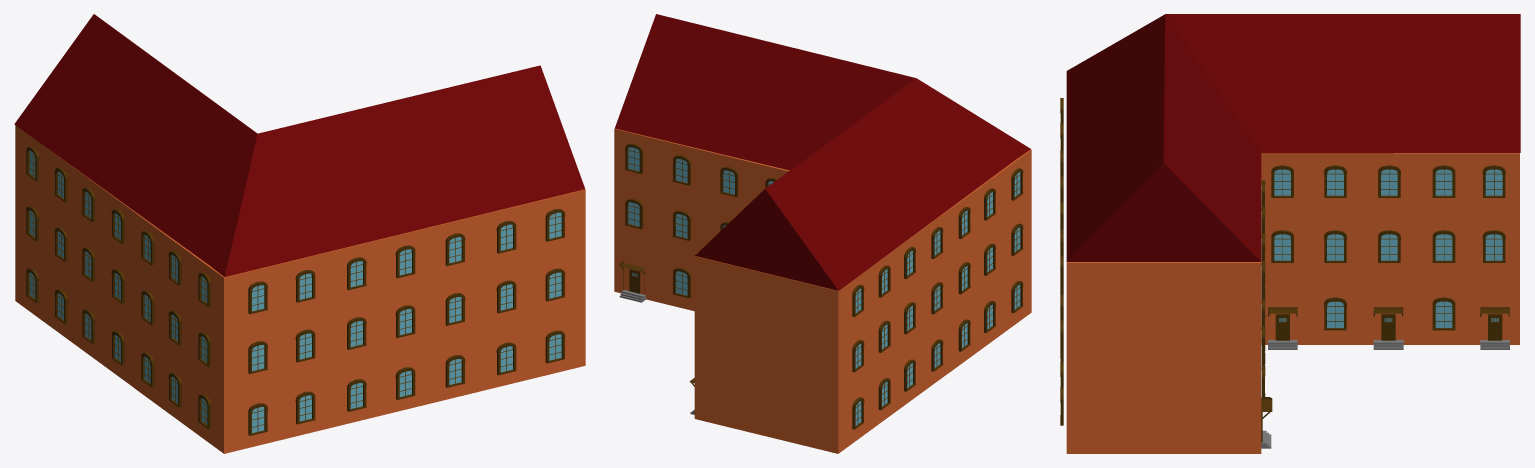
File: naroznik3.fbx
The picture shows the model from 3 angles, left to right: view 1: azimuth 30°, elevation 25°; view 2: azimuth 150°, elevation 25°; view 3: azimuth 270°, elevation 25°; orthographic projection. The views are drawn at different scales.
Visible parts, largest first — view 1: Cube, Cube.001, Cube.091, Cube.105, Cube.090, Cube.098, Cube.088, Cube.089, Cube.093, Cube.094, Cube.087, Cube.095 (+11 smaller); view 2: Cube, Cube.001, Cube.068, Cube.166, Cube.075, Cube.167, Cube.074, Cube.073, Cube.004; view 3: Cube.001, Cube, Cube.146, Cube.145, Cube.147, Cube.152, Cube.153, Cube.154, Cube.151, Cube.164, Cube.150, Cube.158 (+5 smaller).
Part boxes in pixels (x1,y1,x2,y2): Cube: (15,125,585,453); Cube.001: (14,14,584,276); Cube.091: (545,330,565,363); Cube.105: (395,245,415,278); Cube.090: (545,268,565,301); Cube.098: (395,305,415,337); Cube.088: (445,293,465,325); Cube.089: (496,280,516,313); Cube.093: (496,342,516,375); Cube.094: (445,355,465,387); Cube.087: (445,233,465,266); Cube.095: (295,391,315,424); Cube: (614,128,1031,453); Cube.001: (615,14,1030,290); Cube.068: (619,261,645,302); Cube.166: (625,143,643,173); Cube.075: (720,167,738,197); Cube.167: (625,199,643,229); Cube.074: (672,155,690,185); Cube.073: (672,210,690,240); Cube.004: (672,268,690,298); Cube.001: (1066,14,1520,261); Cube: (1066,153,1519,453); Cube.146: (1373,307,1403,349); Cube.145: (1480,307,1509,349); Cube.147: (1268,307,1297,349); Cube.152: (1432,297,1455,330); Cube.153: (1432,230,1455,262); Cube.154: (1432,165,1455,197); Cube.151: (1324,297,1346,330); Cube.164: (1482,230,1505,262); Cube.150: (1324,230,1346,262); Cube.158: (1378,230,1400,262).
Bounding box in the file's own units: 799 × 560 × 805.
213 materials, 213 textured.
